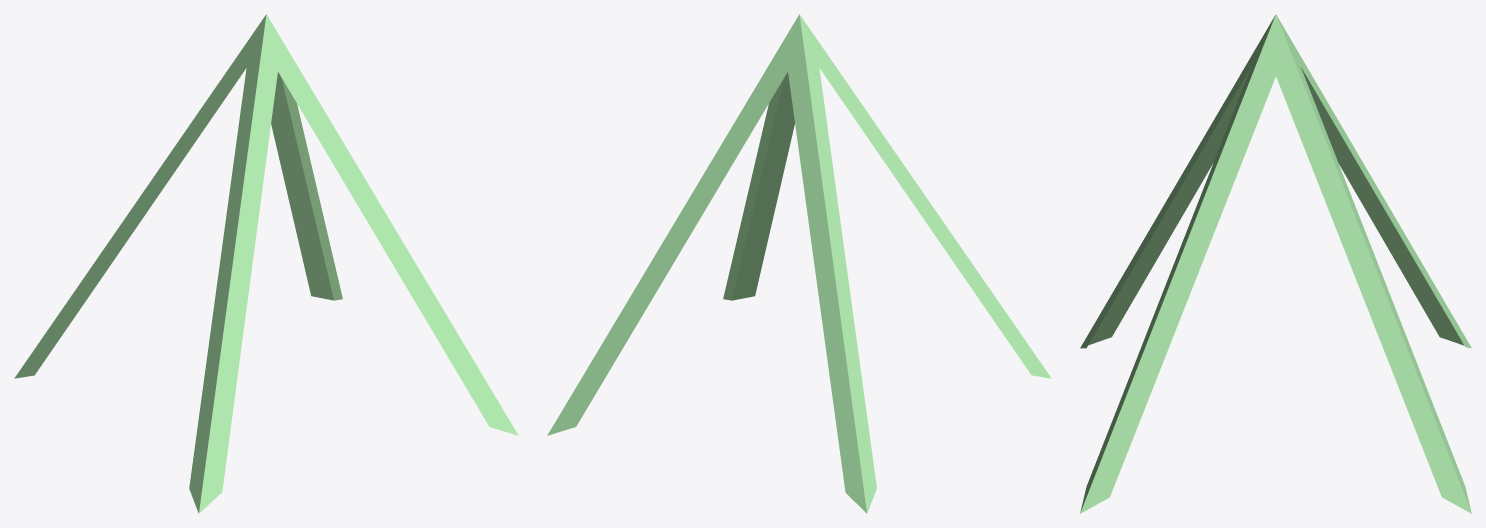
3 views of the same model, side by side, from view 1: azimuth 30°, elevation 25°; view 2: azimuth 150°, elevation 25°; view 3: azimuth 270°, elevation 25° (orthographic). The views are drawn at different scales.
Parts seen in each view (by area): view 1: SketchUp; view 2: SketchUp; view 3: SketchUp.
Part boxes in pixels (left/top/right/bottom): SketchUp: left=14, top=14, right=518, bottom=513; SketchUp: left=547, top=14, right=1051, bottom=513; SketchUp: left=1080, top=14, right=1471, bottom=513.
Bounding box in the file's own units: 153 × 153 × 179.
